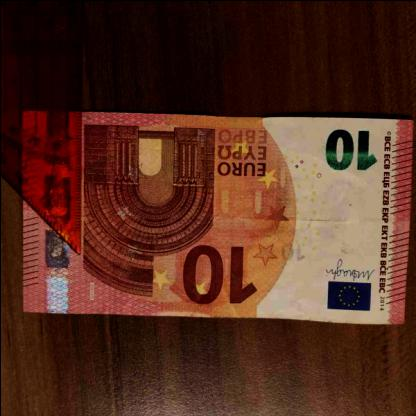euro_banknote: (21, 116, 411, 319)
